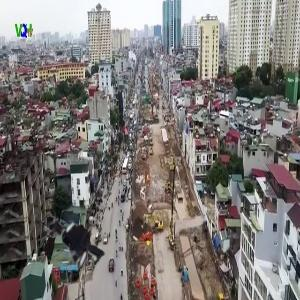drone: (30, 202, 121, 293)
